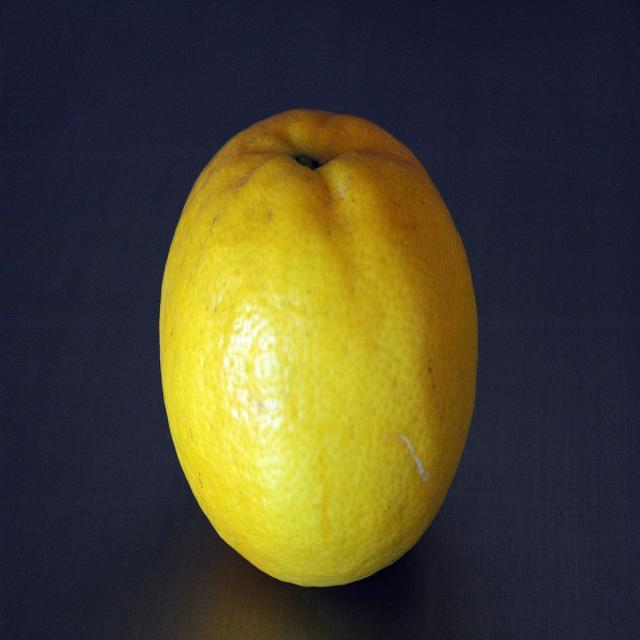Orange: (160, 109, 480, 591)
